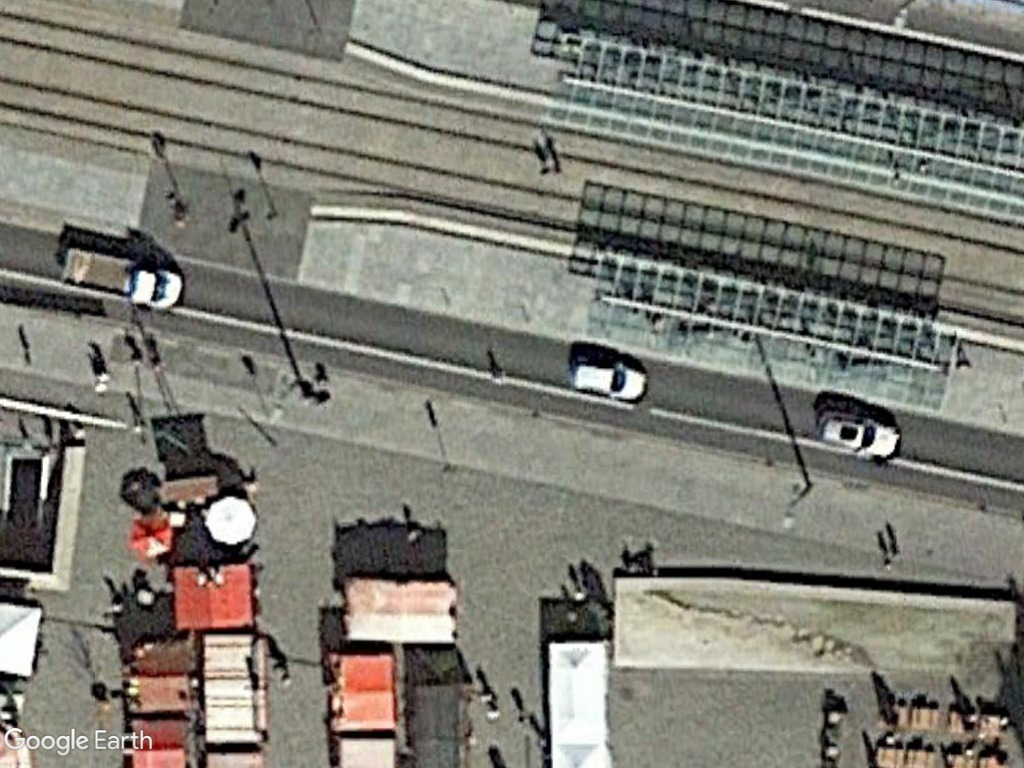other: (54, 235, 197, 318)
van: (809, 401, 906, 466), (567, 351, 658, 409)
